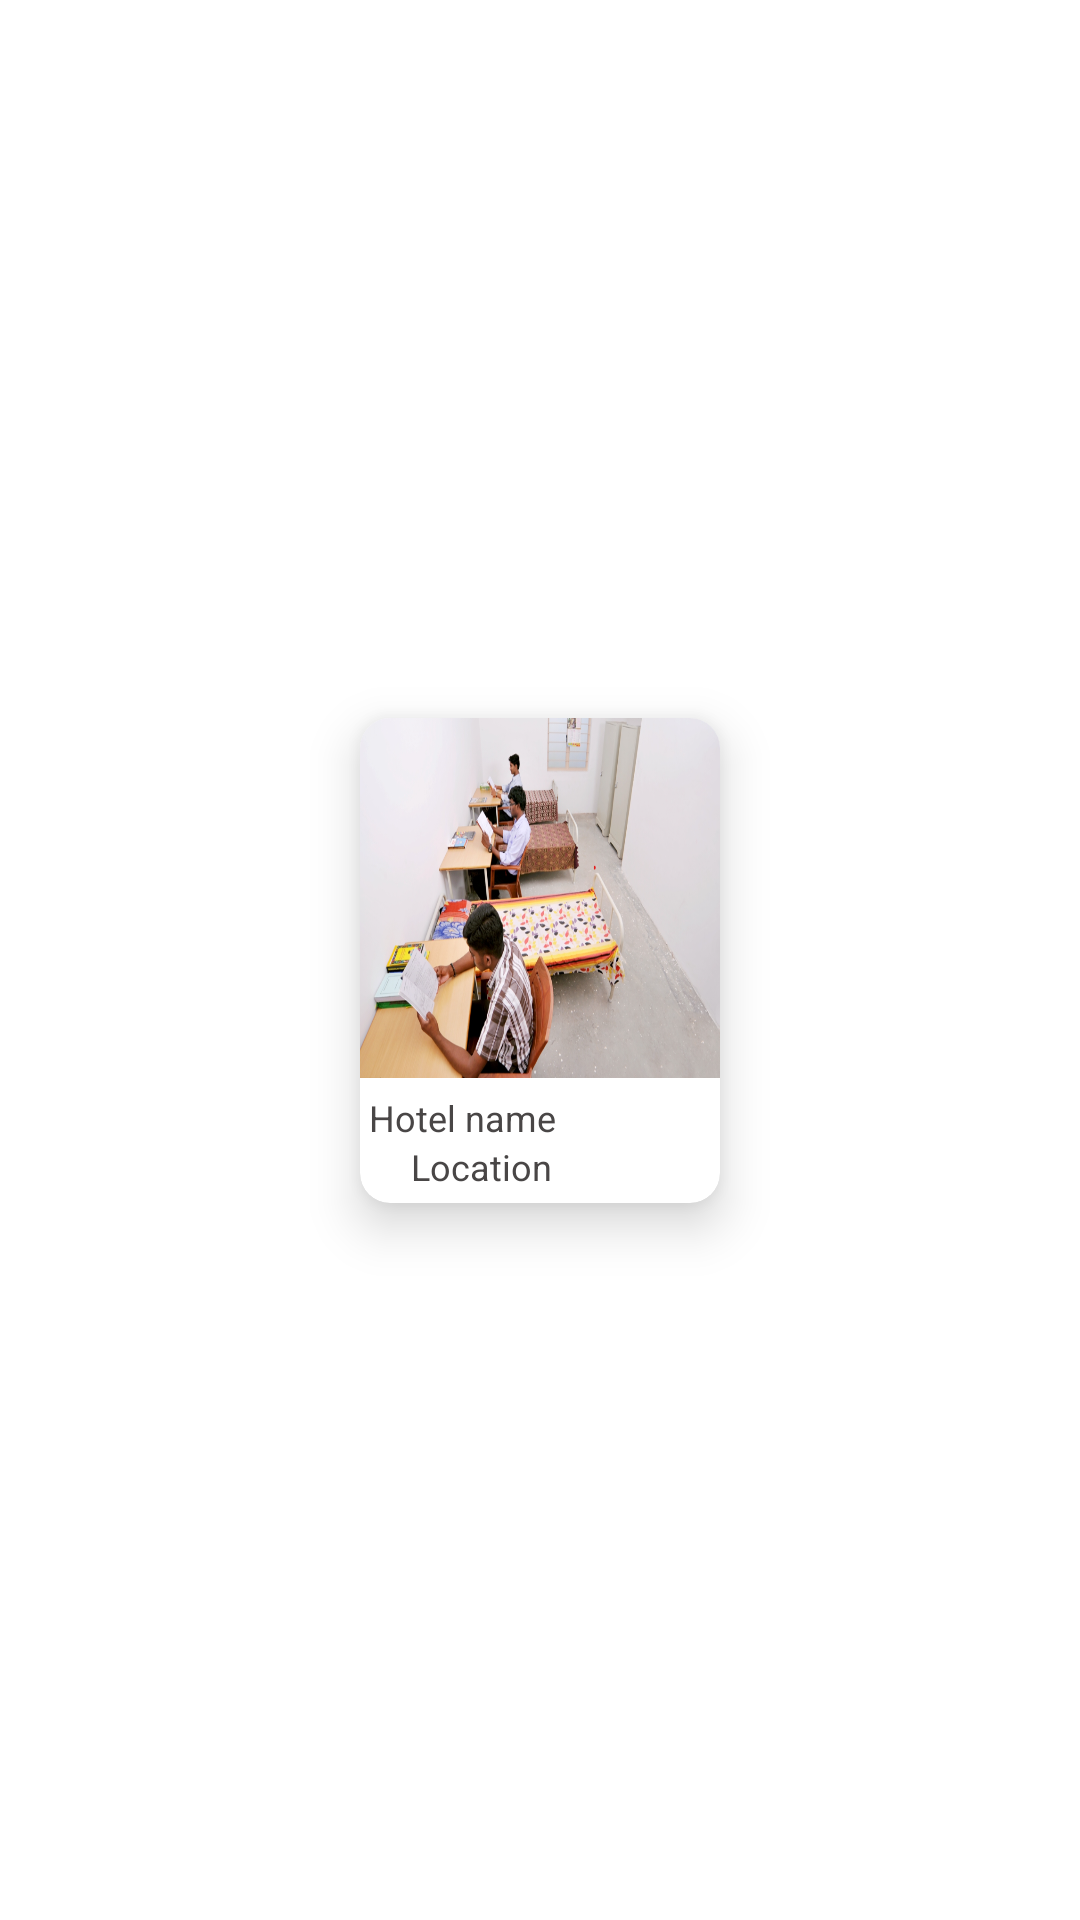

Screen size 1080×1920. Icon name, then its box in pixels as (x1, y1, x2, y2):
hostel: (360, 718, 720, 1078)
